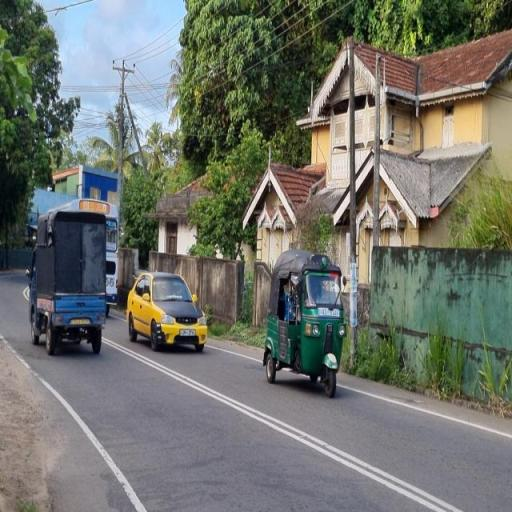double_white_line: (90, 337, 466, 512)
